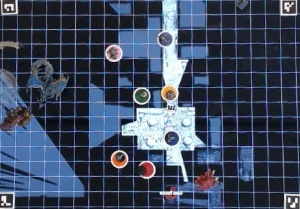blue: (165, 130, 182, 146)
green: (133, 84, 151, 104)
orange: (110, 148, 131, 169)
pink: (106, 44, 124, 62)
red: (138, 157, 157, 178)
violet: (154, 32, 174, 48)
yellow: (160, 83, 180, 102)
